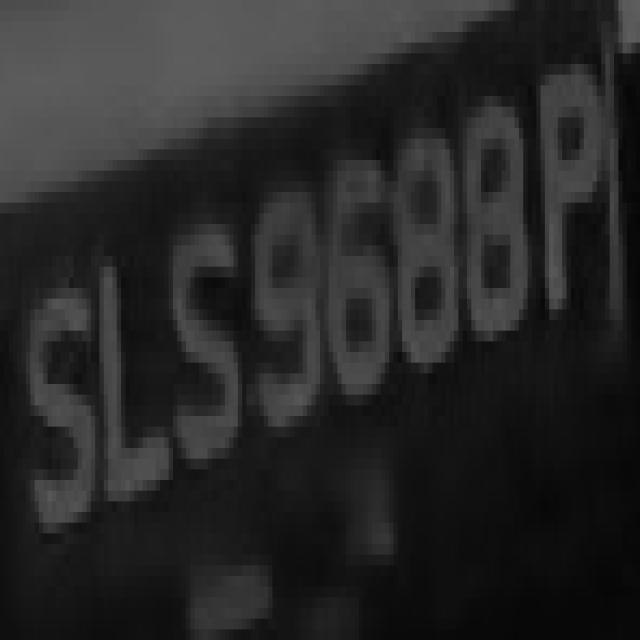6: (311, 96, 398, 437)
8: (376, 53, 463, 384), (446, 53, 524, 395)
9: (234, 138, 320, 458)
L: (78, 213, 156, 523)
P: (528, 32, 614, 320)
S: (9, 245, 95, 587), (156, 181, 247, 491)
